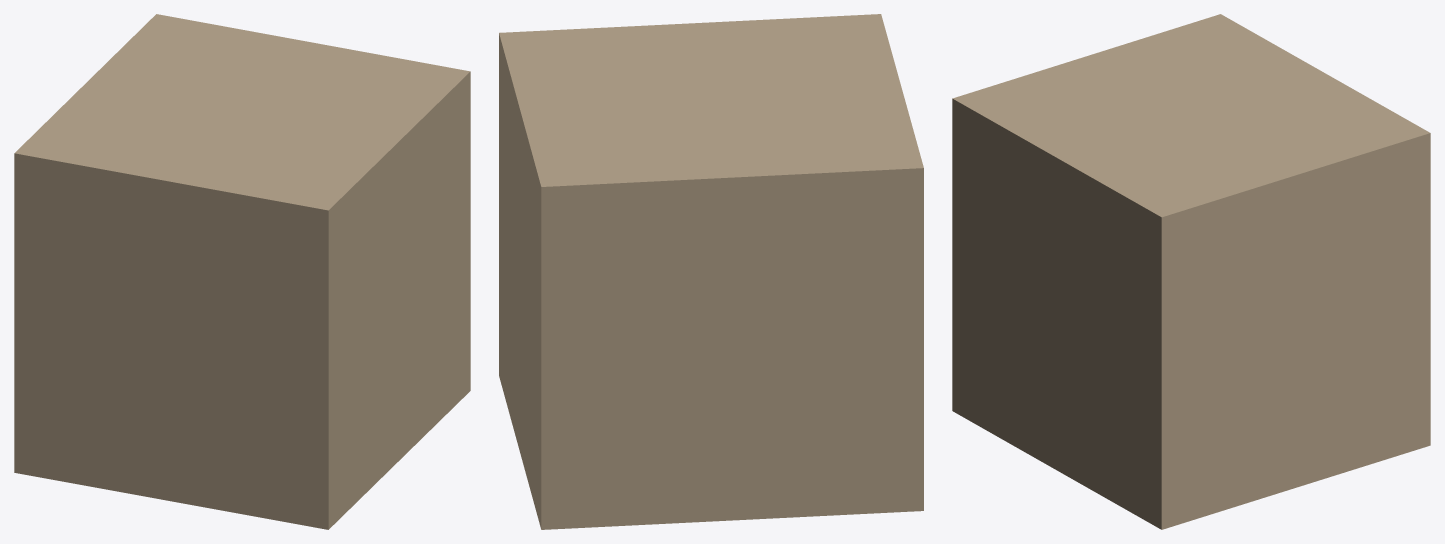
Rendered from bld_105794148.dae.
3 views of the same model, side by side, from view 1: azimuth 30°, elevation 25°; view 2: azimuth 150°, elevation 25°; view 3: azimuth 270°, elevation 25° (orthographic). The views are drawn at different scales.
Parts seen in each view (by area): view 1: bld_105794148; view 2: bld_105794148; view 3: bld_105794148.
Boxes of the visible parts, bbox=[...] form: bld_105794148: bbox=[14, 14, 470, 529]; bld_105794148: bbox=[499, 14, 923, 529]; bld_105794148: bbox=[952, 14, 1430, 529].
Size of the model in its own units: 11.16 by 11.09 by 8.
